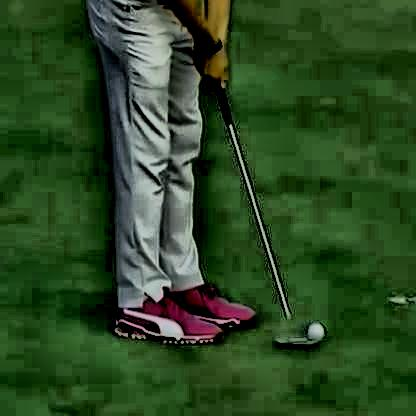golfball: (304, 316, 323, 338)
